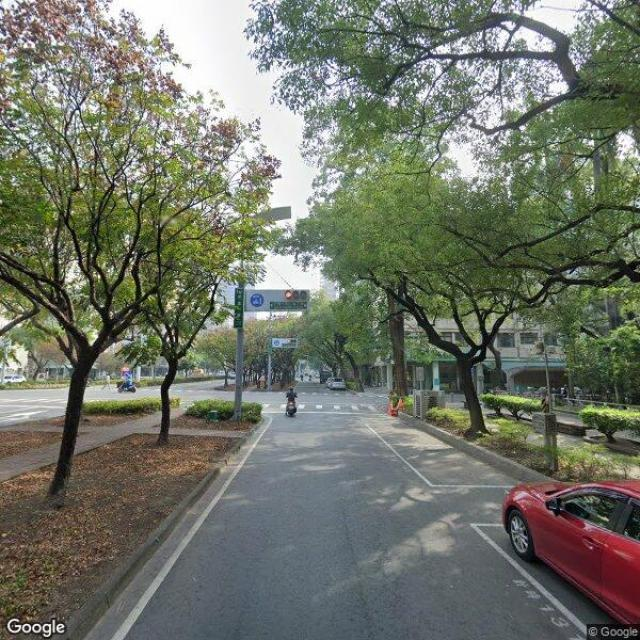Legalparking: (503, 480, 639, 623)
illegalparking: (285, 394, 297, 415)
